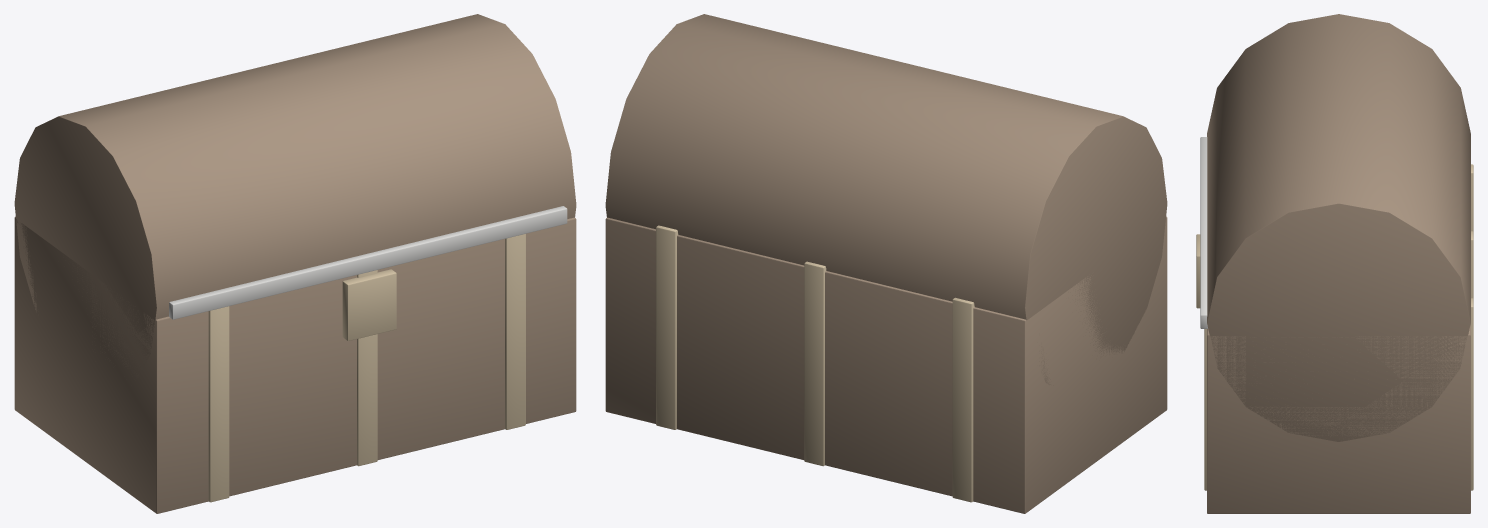
File: perk_deep_pockets.gltf
3 views of the same model, side by side, from view 1: azimuth 30°, elevation 25°; view 2: azimuth 150°, elevation 25°; view 3: azimuth 270°, elevation 25° (orthographic). The views are drawn at different scales.
Parts seen in each view (by area): view 1: Body, Glow; view 2: Body; view 3: Body, Glow.
Boxes of the visible parts, bbox=[...] form: Body: bbox=[14, 14, 576, 513]; Glow: bbox=[169, 206, 567, 319]; Body: bbox=[605, 14, 1167, 513]; Body: bbox=[1196, 14, 1473, 513]; Glow: bbox=[1200, 137, 1207, 328].
Bounding box in the file's own units: 1.7 × 1.3 × 1.05.
